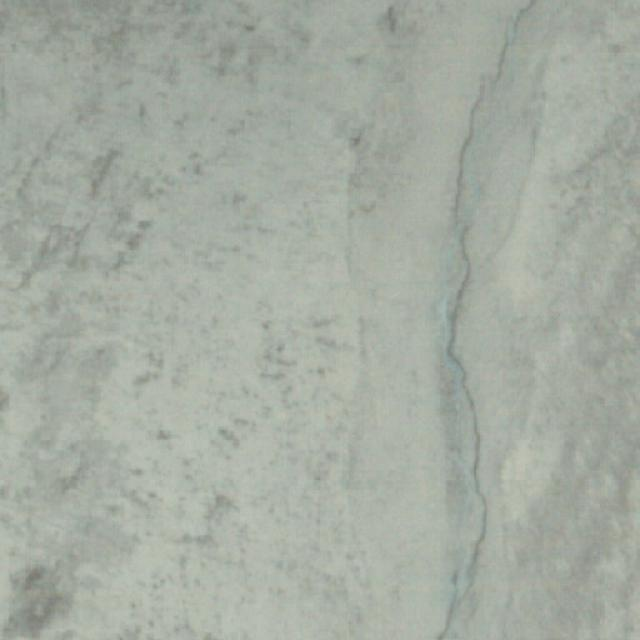Radial: (401, 4, 594, 640)
